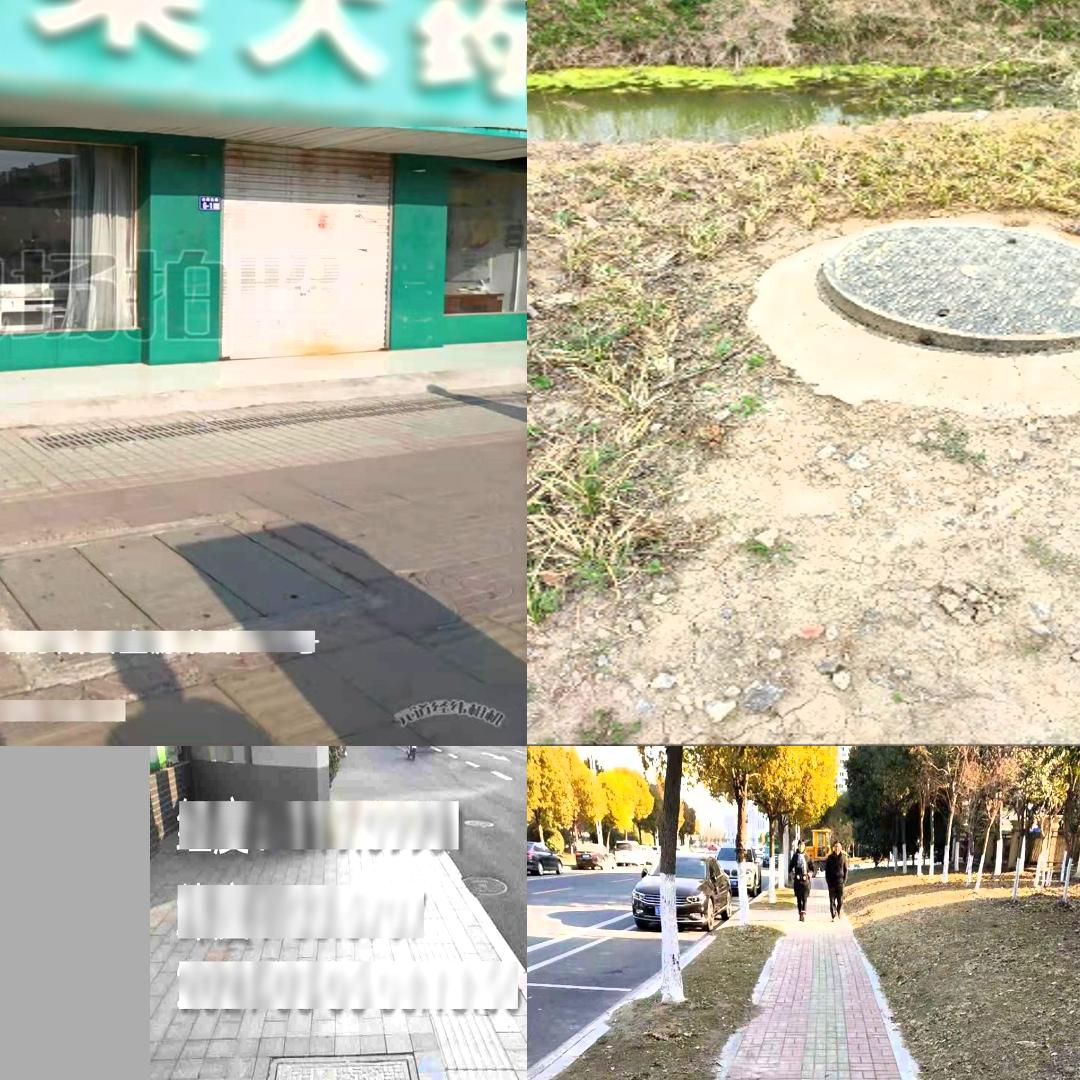good: (0, 513, 366, 674), (818, 224, 1080, 354), (229, 1052, 458, 1080)
